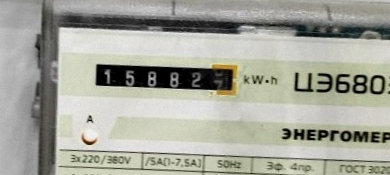1: (101, 67, 112, 86)
2: (189, 70, 201, 88)
5: (122, 68, 135, 86)
7: (211, 77, 223, 91)
8: (145, 69, 157, 87), (168, 71, 179, 87)
screen: (87, 52, 244, 100)
